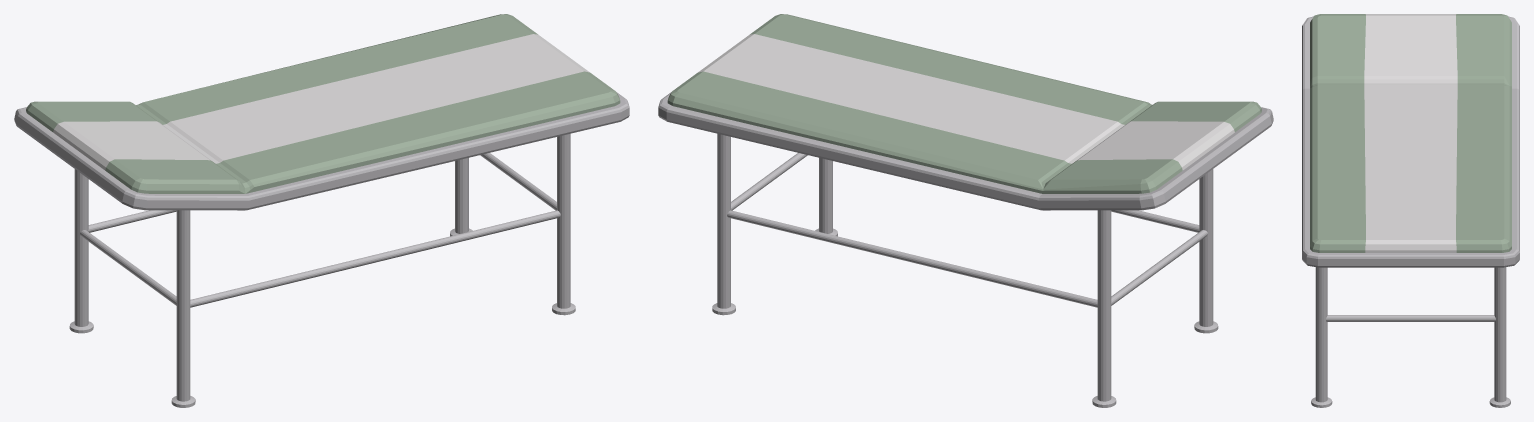
Rendered from DoctorsBed.fbx.
3 renders of one model, left to right at view 1: azimuth 30°, elevation 25°; view 2: azimuth 150°, elevation 25°; view 3: azimuth 270°, elevation 25°, orthographic. The views are drawn at different scales.
Visible parts, largest first — view 1: Cube, Cylinder; view 2: Cube, Cylinder; view 3: Cube, Cylinder.
Boxes of the visible parts, x1,y1,x2,y2 form: Cube: [14, 14, 629, 210]; Cylinder: [69, 133, 575, 407]; Cube: [658, 14, 1273, 210]; Cylinder: [712, 133, 1218, 407]; Cube: [1302, 14, 1519, 267]; Cylinder: [1311, 267, 1510, 407].
Bounding box in the file's own units: 201 × 89.34 × 85.37.
